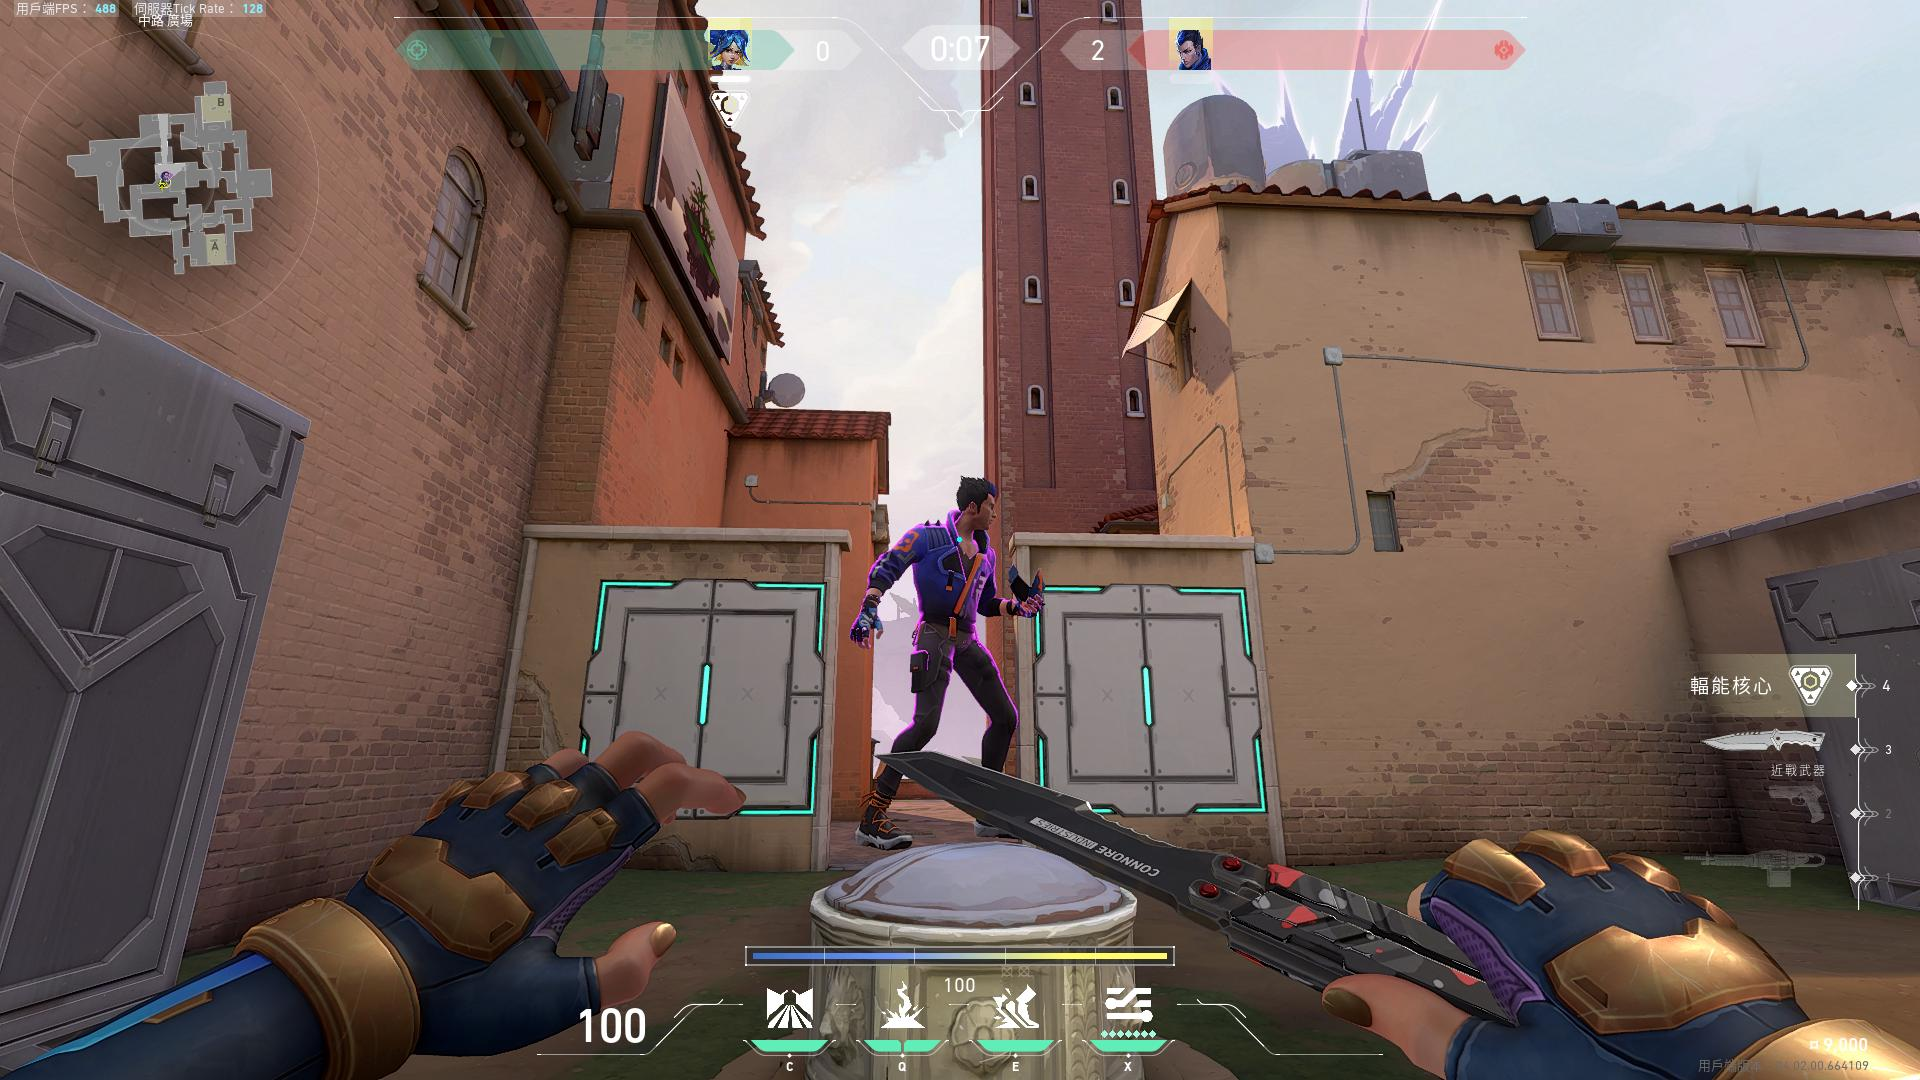enemyBody: (924, 538, 980, 632)
enemyHead: (955, 492, 986, 524)
